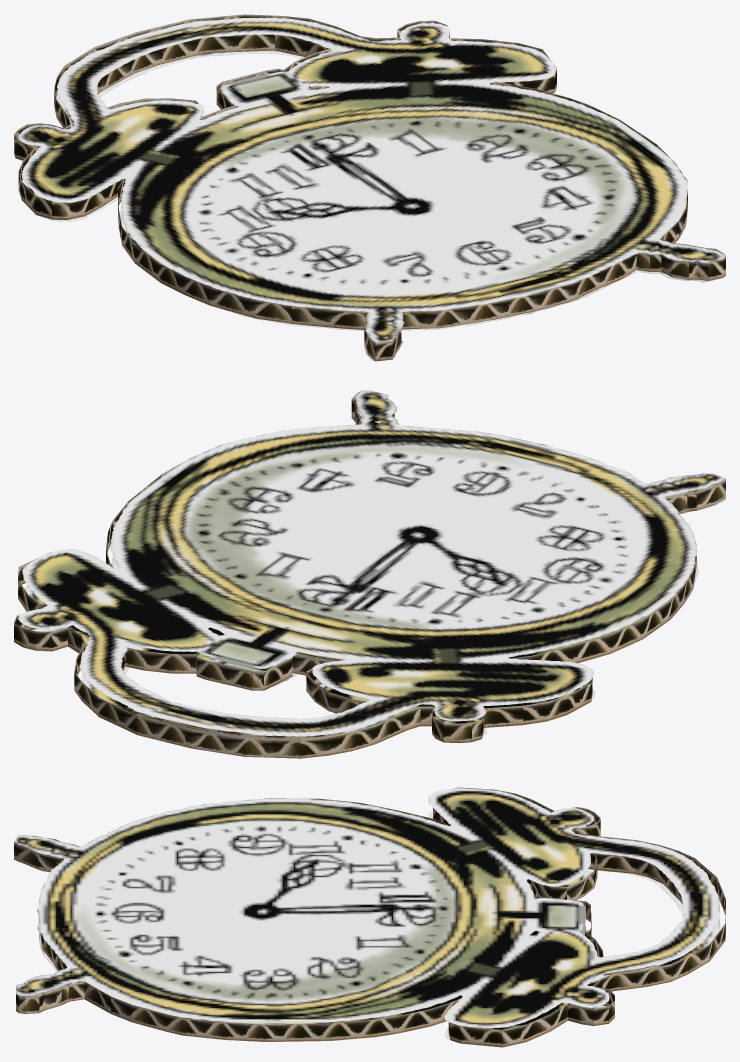
File: clockMute.fbx
3 renders of one model, top to bottom at view 1: azimuth 30°, elevation 25°; view 2: azimuth 150°, elevation 25°; view 3: azimuth 270°, elevation 25°, orthographic. The views are drawn at different scales.
Visible parts, largest first — view 1: Plane; view 2: Plane; view 3: Plane.
Part boxes in pixels (box(x1,y1,x2,y2)): Plane: box(14, 14, 725, 361); Plane: box(14, 390, 725, 758); Plane: box(14, 787, 725, 1047).
Bounding box in the file's own units: 1.47 × 0.05 × 1.83.
